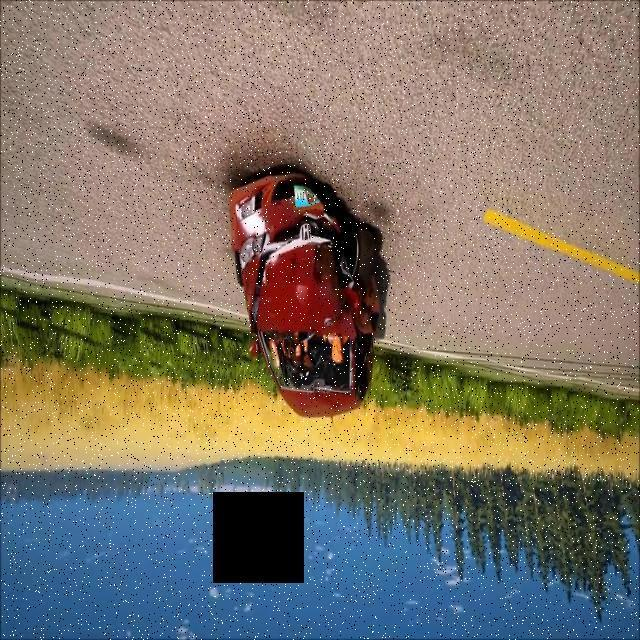vehicle: (220, 120, 408, 446)
